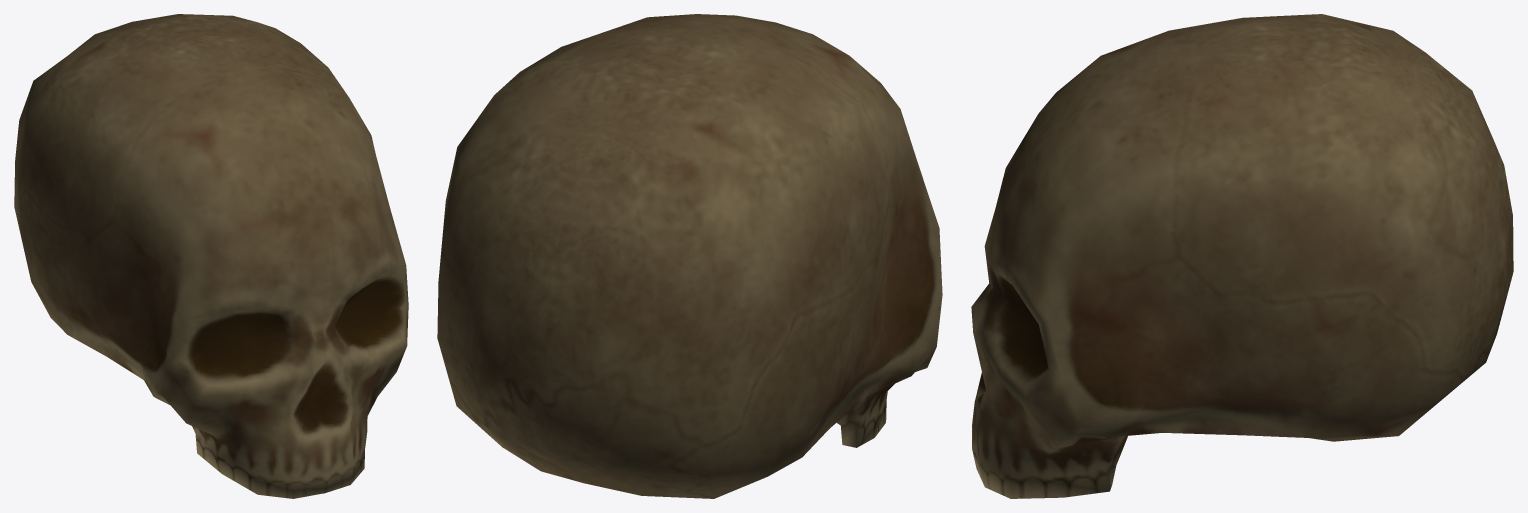
The model's file is Skull_Jawless.fbx.
The picture shows the model from 3 angles, left to right: view 1: azimuth 30°, elevation 25°; view 2: azimuth 150°, elevation 25°; view 3: azimuth 270°, elevation 25°; orthographic projection. The views are drawn at different scales.
Visible parts, largest first — view 1: Skull_Jawless; view 2: Skull_Jawless; view 3: Skull_Jawless.
Boxes of the visible parts, box(x1,y1,x2,y2) form: Skull_Jawless: box(14, 14, 408, 498); Skull_Jawless: box(437, 14, 942, 498); Skull_Jawless: box(971, 14, 1513, 498).
Bounding box in the file's own units: 0.1423 × 0.1741 × 0.1987.
